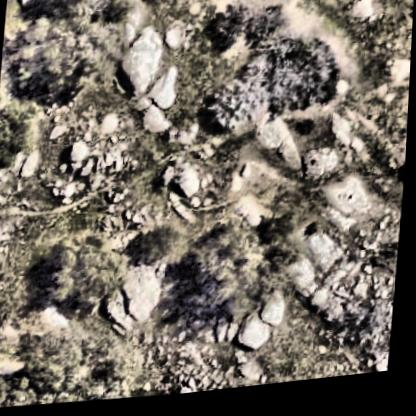tree-top: (200, 0, 346, 146), (169, 208, 308, 352), (0, 0, 134, 110), (0, 331, 118, 413), (45, 222, 134, 321), (0, 96, 43, 183)
